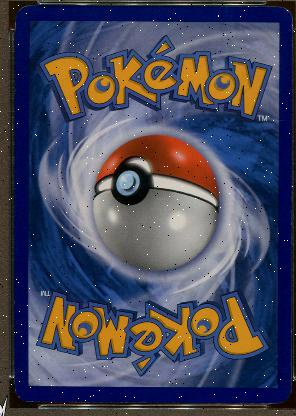Card: (13, 5, 293, 403)
Corner Wear: (14, 369, 40, 403), (14, 5, 27, 31), (279, 6, 293, 30), (264, 400, 282, 404)
Edge Wear: (26, 400, 160, 404), (290, 152, 291, 226), (14, 68, 15, 96), (13, 300, 14, 304)
Scratch: (275, 119, 283, 120)
